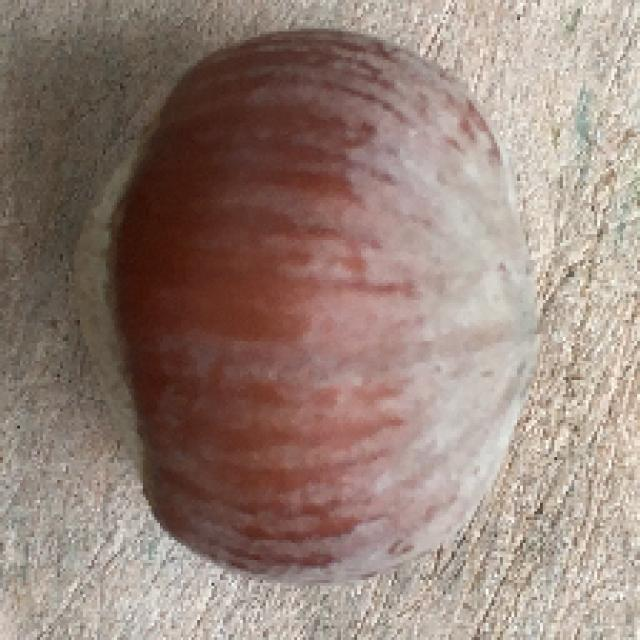hazelnut: (75, 30, 547, 565)
